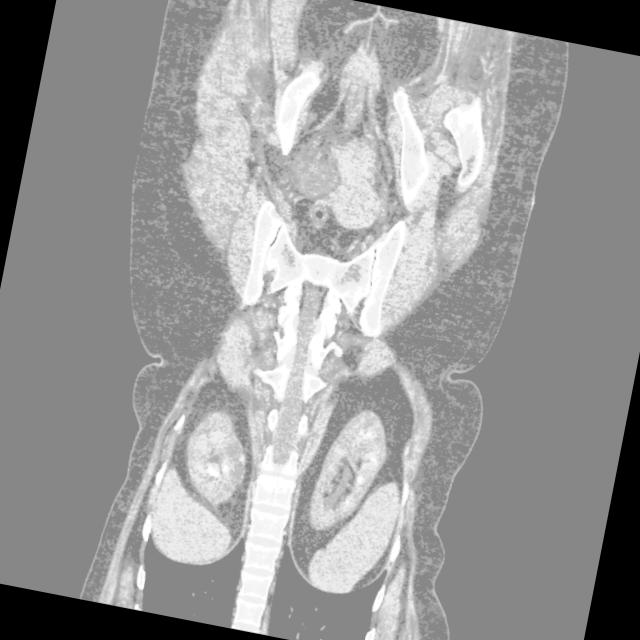STONE: (152, 362, 421, 558)
